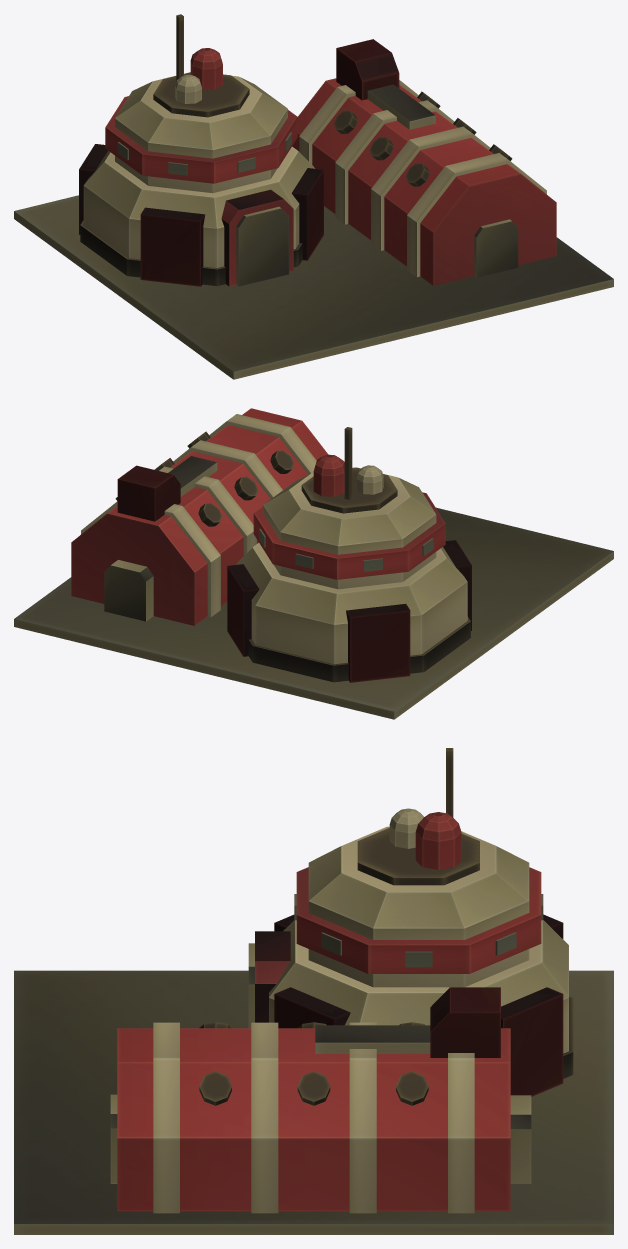
File: struct_Barracks_A.fbx
3 views of the same model, one above another, from view 1: azimuth 30°, elevation 25°; view 2: azimuth 150°, elevation 25°; view 3: azimuth 270°, elevation 25° (orthographic). The views are drawn at different scales.
Visible parts, largest first — view 1: struct_Barracks_A; view 2: struct_Barracks_A; view 3: struct_Barracks_A.
Part boxes in pixels (x1,y1,x2,y2): struct_Barracks_A: [14, 14, 613, 379]; struct_Barracks_A: [14, 408, 613, 719]; struct_Barracks_A: [14, 748, 613, 1234].
Size of the model in its own units: 1000 by 556 by 1000.
